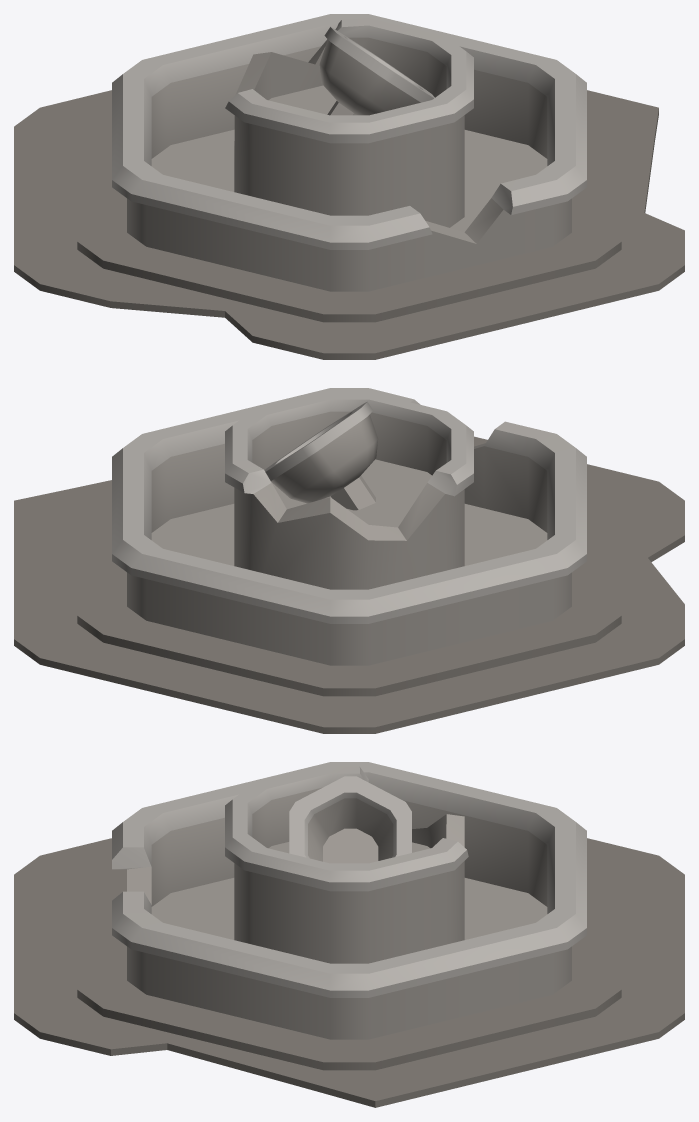
The model's file is Fountain 02.FBX.
3 renders of one model, top to bottom at view 1: azimuth 30°, elevation 25°; view 2: azimuth 150°, elevation 25°; view 3: azimuth 270°, elevation 25°, orthographic.
Parts seen in each view (by area): view 1: Fountain 02; view 2: Fountain 02; view 3: Fountain 02.
Part boxes in pixels (x1=…): Fountain 02: x1=14, y1=14, x2=684, y2=359; Fountain 02: x1=14, y1=388, x2=684, y2=733; Fountain 02: x1=14, y1=762, x2=684, y2=1107.
Bounding box in the file's own units: 454 × 114 × 409.
1 material, 1 textured.
